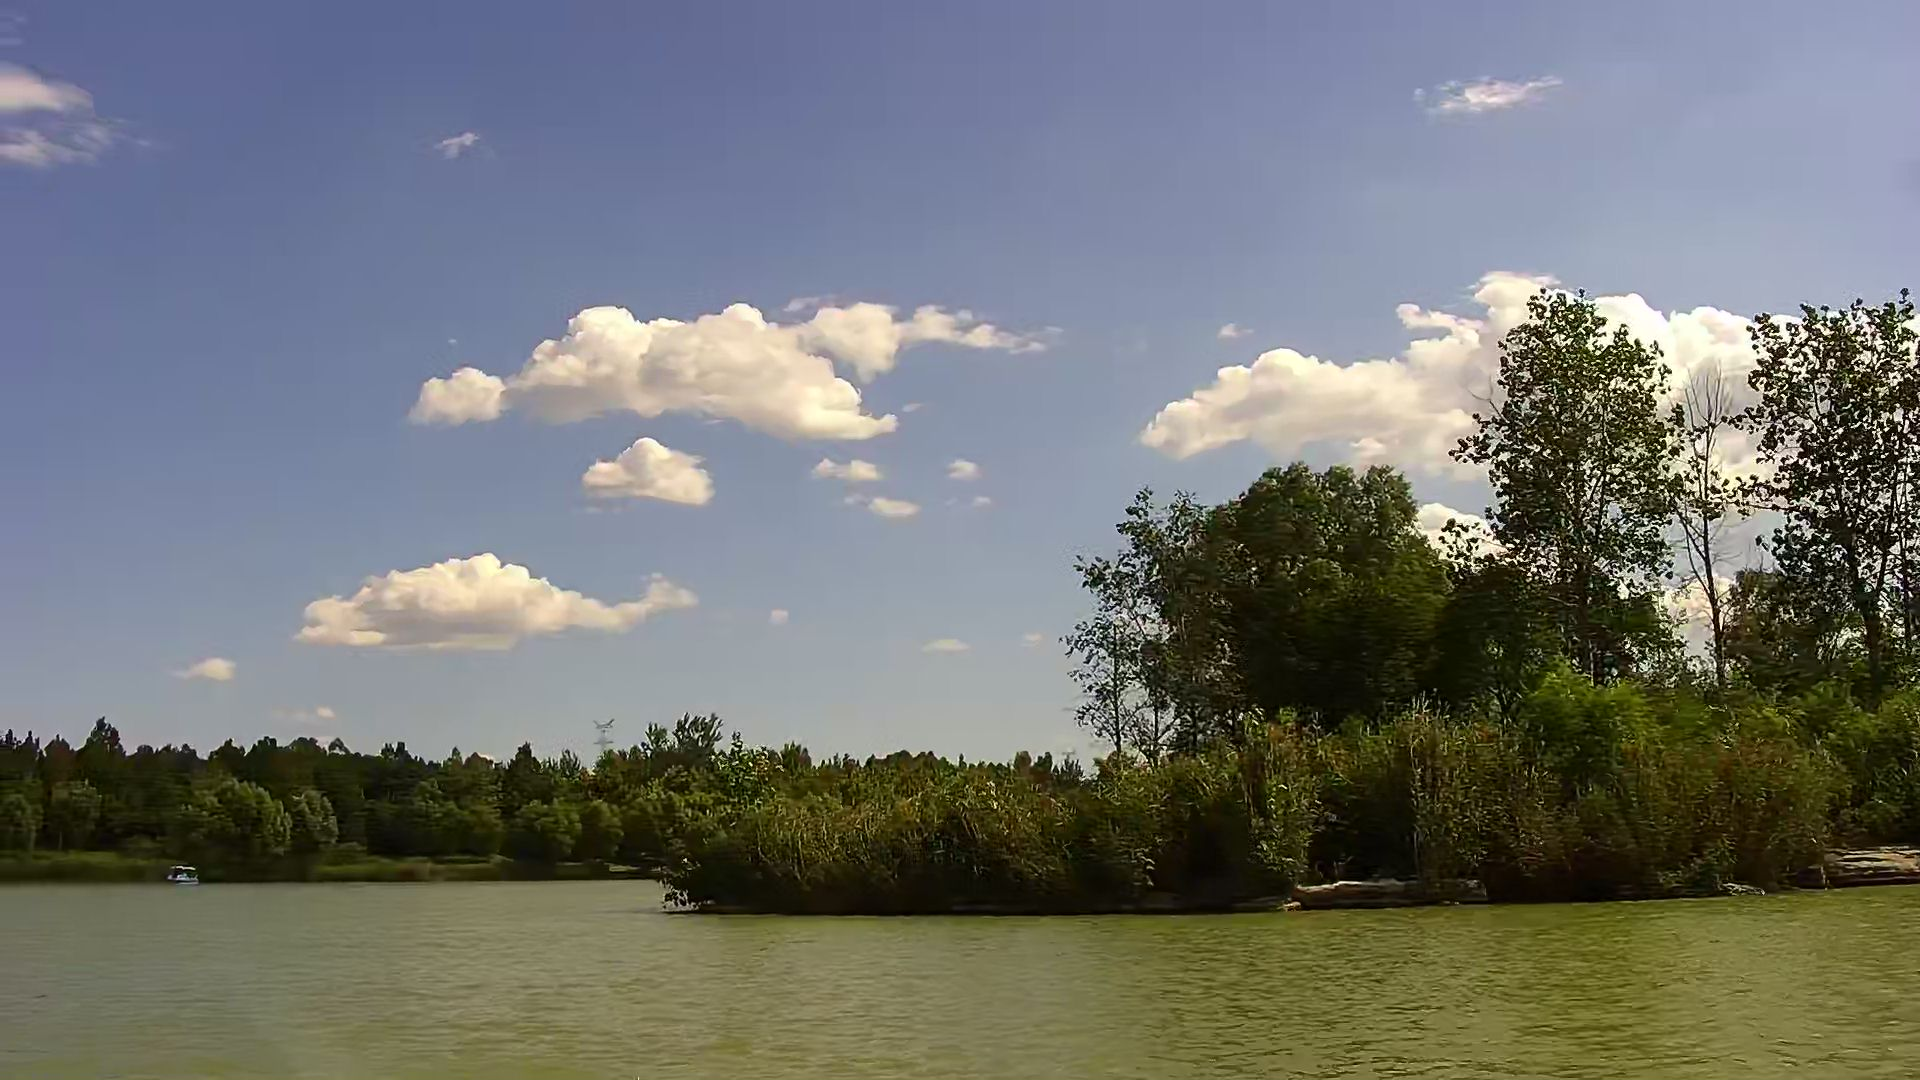boat: (160, 857, 196, 886)
rock: (1807, 851, 1917, 890), (1292, 876, 1411, 909)
